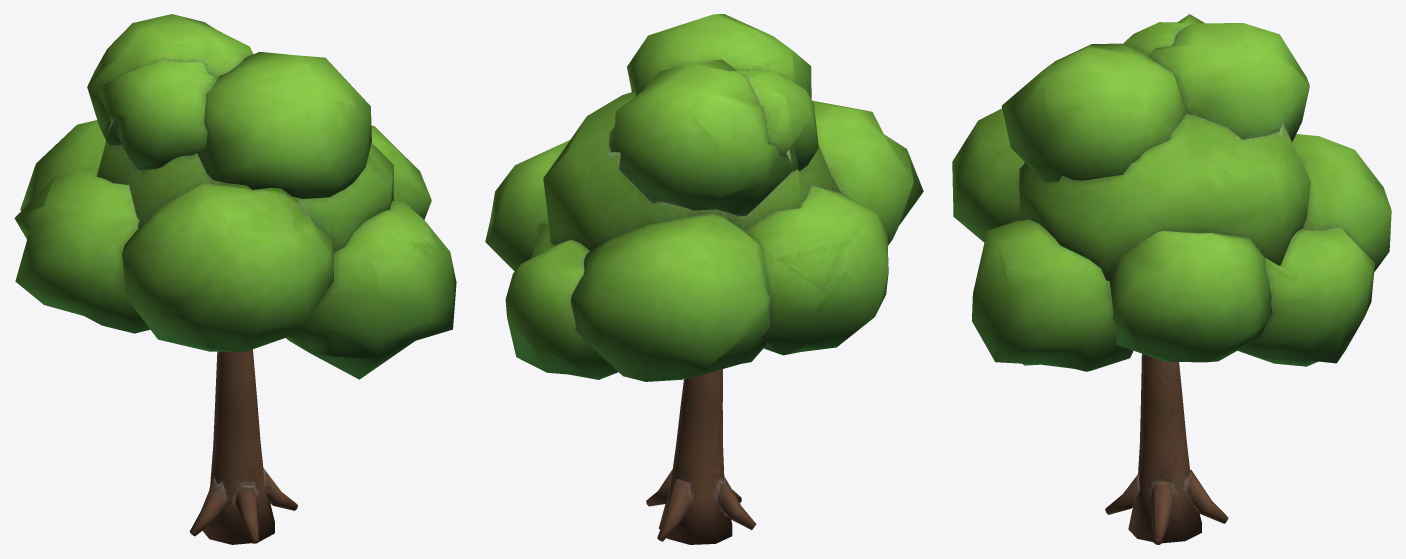
File: oak_b.glb
The picture shows the model from 3 angles, left to right: view 1: azimuth 30°, elevation 25°; view 2: azimuth 150°, elevation 25°; view 3: azimuth 270°, elevation 25°; orthographic projection.
Visible parts, largest first — view 1: oak_b; view 2: oak_b; view 3: oak_b.
Boxes of the visible parts, bbox=[...] form: oak_b: bbox=[14, 14, 456, 544]; oak_b: bbox=[485, 14, 923, 544]; oak_b: bbox=[952, 14, 1391, 544].
Bounding box in the file's own units: 5.01 × 6.03 × 5.
Materials: 2 (2 with a texture image).
